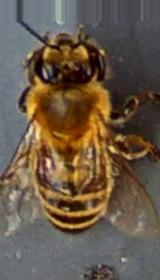varroa_mite: (30, 144, 66, 188)
